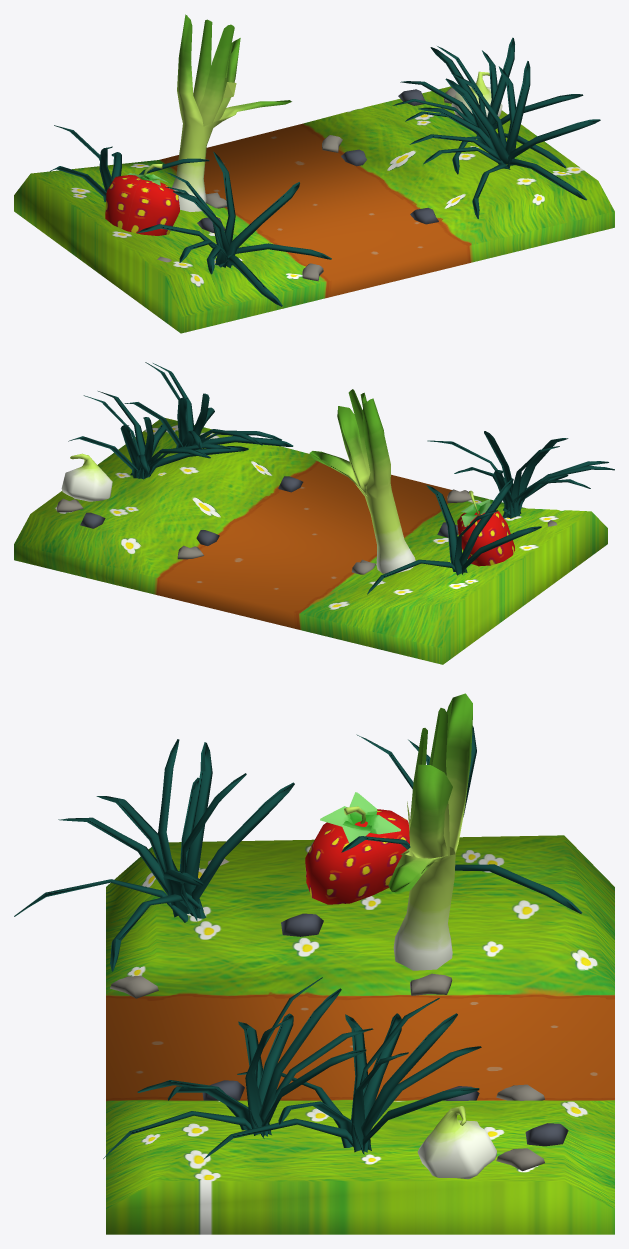
Rendered from D_block_13.FBX.
3 renders of one model, top to bottom at view 1: azimuth 30°, elevation 25°; view 2: azimuth 150°, elevation 25°; view 3: azimuth 270°, elevation 25°, orthographic. The views are drawn at different scales.
Parts seen in each view (by area): view 1: biome_01; view 2: biome_01; view 3: biome_01.
Part boxes in pixels (left/top/right/bottom): biome_01: left=14, top=14, right=614, bottom=333; biome_01: left=14, top=362, right=614, bottom=664; biome_01: left=14, top=693, right=614, bottom=1234.
Bounding box in the file's own units: 1019 × 402 × 708.
